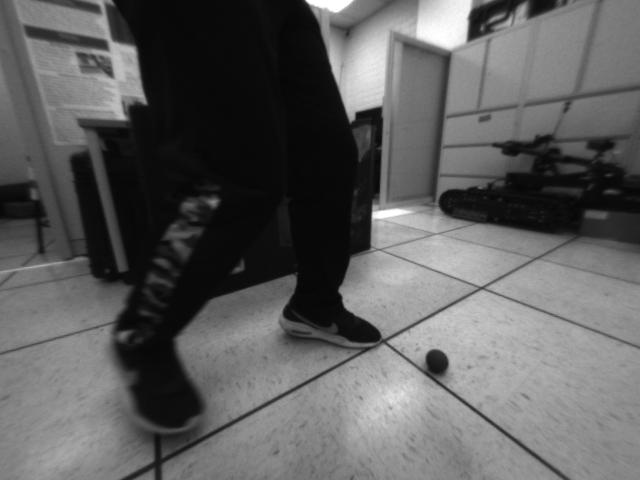dogtoy: (422, 345, 454, 379)
